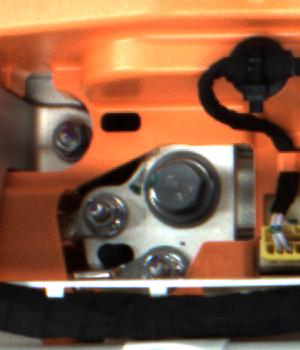nut_b: (137, 147, 224, 230)
screw_s: (50, 122, 92, 166), (83, 194, 126, 235), (142, 249, 184, 278)
